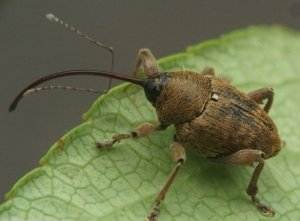dolgonosik: (6, 11, 288, 221)
